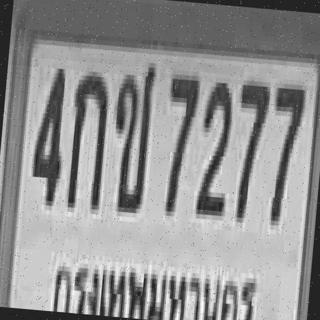A01: (65, 66, 109, 205)
A10: (107, 55, 154, 208)
N02: (194, 77, 233, 212)
N04: (28, 62, 68, 202)
N07: (264, 78, 305, 222), (158, 69, 199, 213), (230, 76, 270, 219)
P04: (44, 252, 262, 320)
